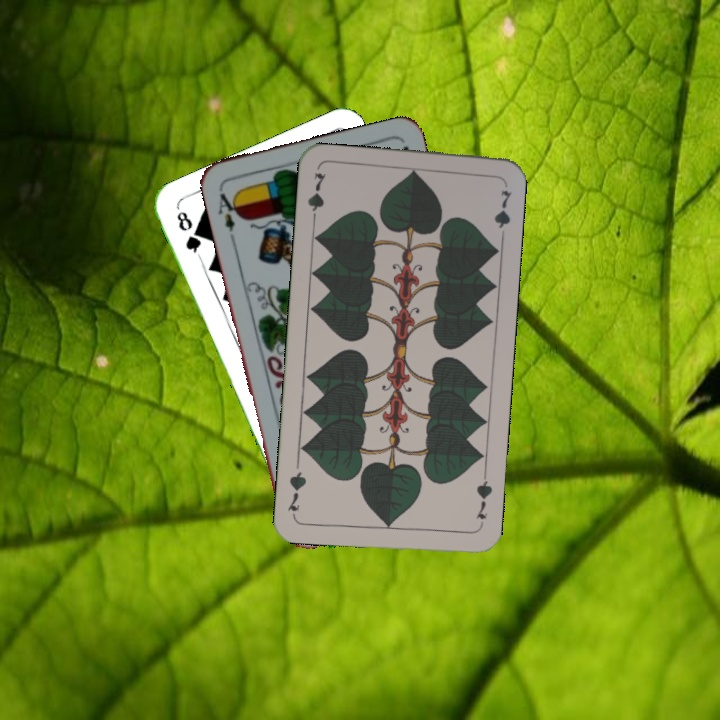EA: (214, 189, 244, 243)
G7: (303, 168, 329, 227), (472, 471, 495, 522)
G8: (172, 207, 204, 261)
